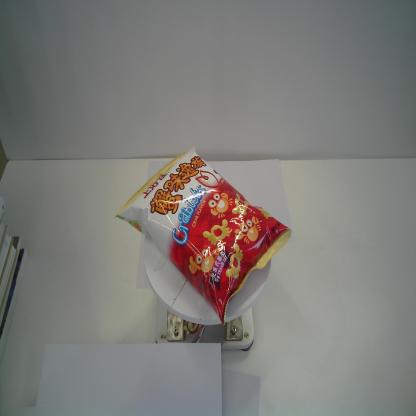Puffed Food: (113, 145, 297, 327)
